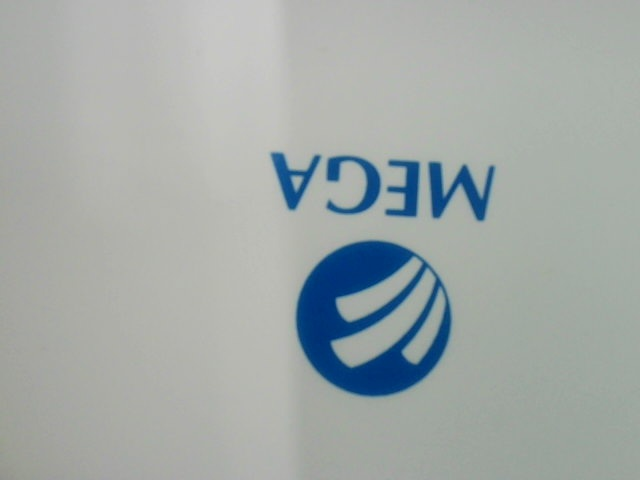AM_ZTEMEGA: (247, 136, 549, 411)
